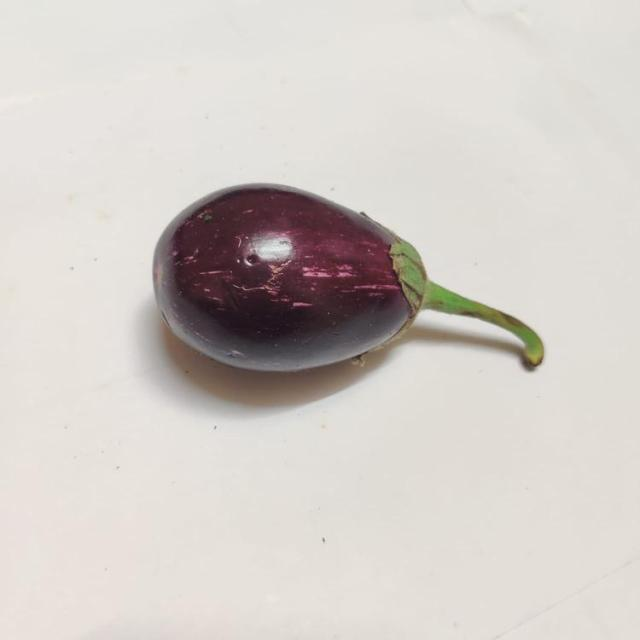Organik: (155, 177, 540, 393)
